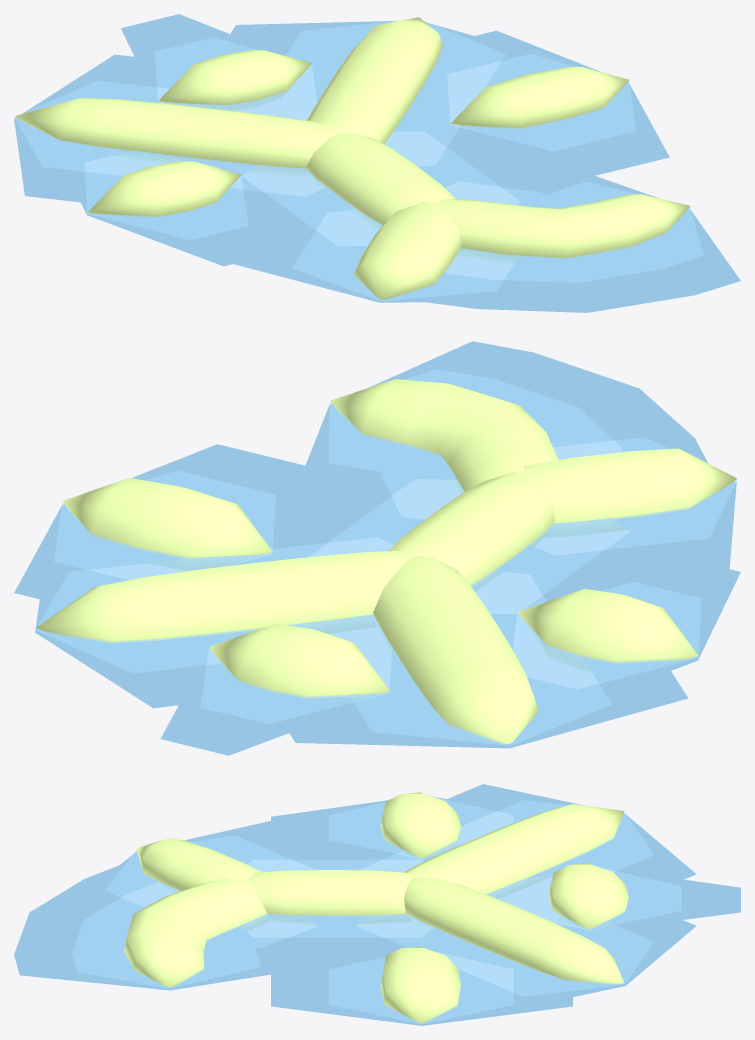
The model's file is fruit_glyph_tree_153.glb.
The picture shows the model from 3 angles, top to bottom: view 1: azimuth 30°, elevation 25°; view 2: azimuth 150°, elevation 25°; view 3: azimuth 270°, elevation 25°; orthographic projection. The views are drawn at different scales.
Parts seen in each view (by area): view 1: fruit_glyph_tree_153; view 2: fruit_glyph_tree_153; view 3: fruit_glyph_tree_153.
Part boxes in pixels (box(x1,y1,x2,y2)): fruit_glyph_tree_153: box(14, 14, 740, 312); fruit_glyph_tree_153: box(14, 341, 740, 755); fruit_glyph_tree_153: box(14, 784, 740, 1025).
Size of the model in its own units: 6.82 by 0.5706 by 8.66.
